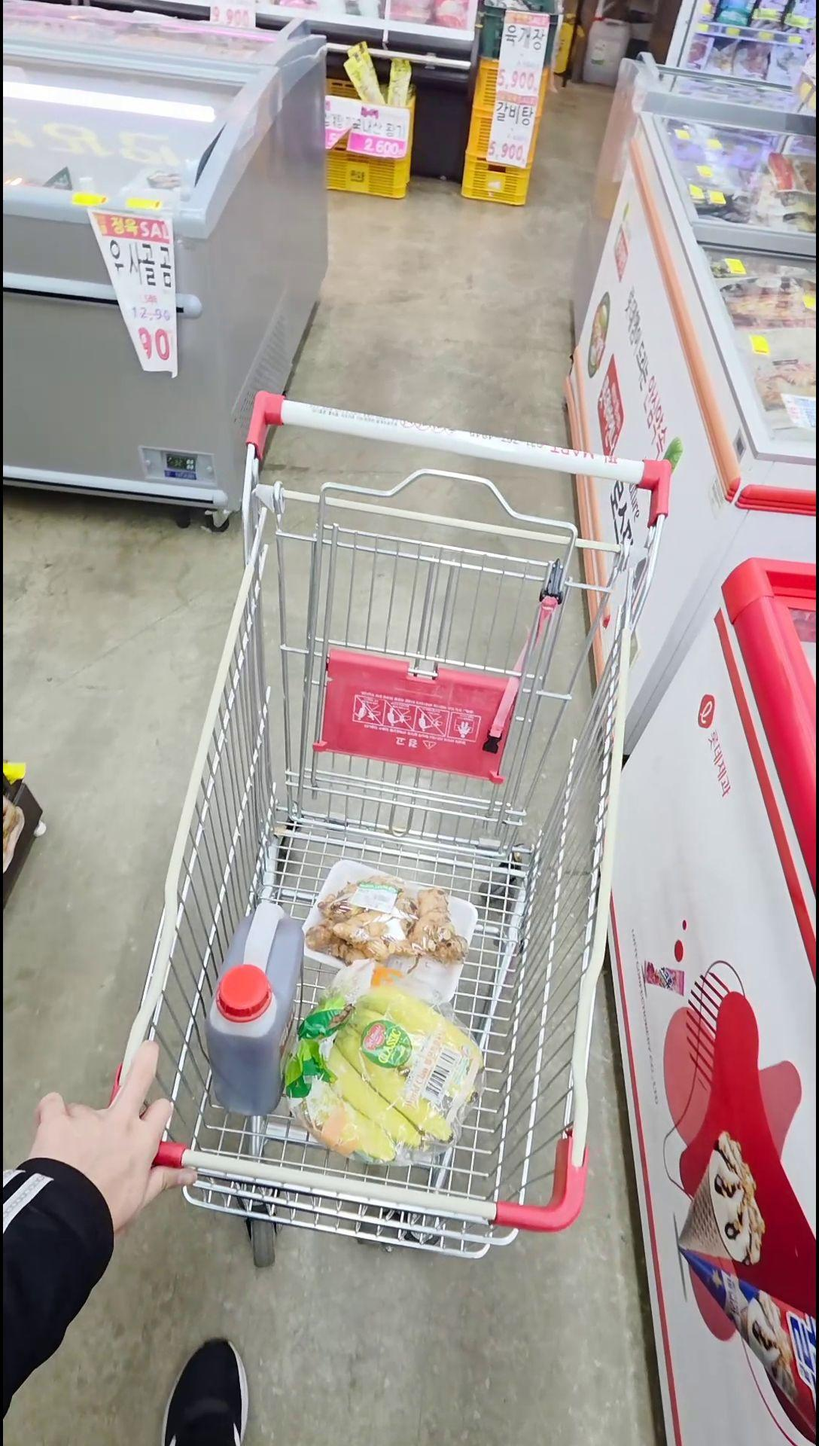fully_cart: (126, 377, 672, 1265)
